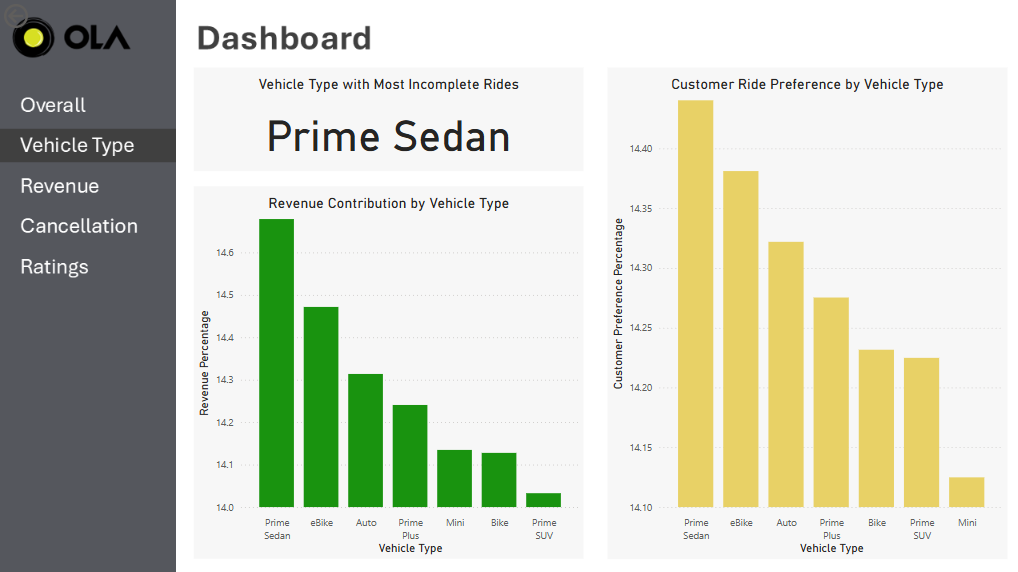

Layout of this report page (visuals, bound fields, positions):
{"tool":"powerbi","page":{"name":"Vehicle Type","canvas":[1280,720],"ordinal":1},"visuals":[{"type":"actionButton","box":[0,214.3,218.6,35.7],"z":0},{"type":"actionButton","box":[0,265.7,218.6,35.7],"z":1000},{"type":"actionButton","box":[0,314.3,218.6,35.7],"z":2000},{"type":"actionButton","box":[0,114.3,218.6,35.7],"z":3000},{"type":"columnChart","title":"Revenue Contribution by Vehicle Type","fields":{"Category":["July.Vehicle_Type"],"Y":["July.RevenuePercentage"]},"box":[242.2,232.8,487.5,465.6],"z":4000},{"type":"columnChart","title":"Customer Ride Preference by Vehicle Type","fields":{"Category":["July.Vehicle_Type"],"Y":["July.CustomerPreference"]},"box":[759.4,84.4,500,614.1],"z":5000},{"type":"card","title":"Vehicle Type with Most Incomplete Rides","fields":{"Values":["July.MostIncompleteVehicleRide"]},"box":[242.2,84.4,487.5,129.7],"z":6000},{"type":"actionButton","box":[0,0,100,40],"z":7000}]}

Visuals, with their boxes on the page's 1280x720 design canvas (x1, y1, x2, y2). These are canvas units, not pixel positions in the 1018x572 screenshot, which may show the page scaled, cropped or inside an application window:
actionButton: 0 214 219 250
actionButton: 0 266 219 301
actionButton: 0 314 219 350
actionButton: 0 114 219 150
"Revenue Contribution by Vehicle Type" columnChart: 242 233 730 698
"Customer Ride Preference by Vehicle Type" columnChart: 759 84 1259 698
"Vehicle Type with Most Incomplete Rides" card: 242 84 730 214
actionButton: 0 0 100 40
